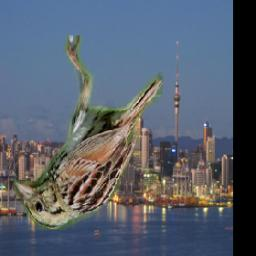Sparrow: (15, 36, 164, 231)
